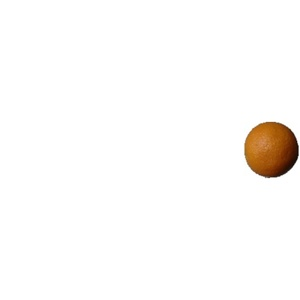laranja: (247, 121, 299, 178)
